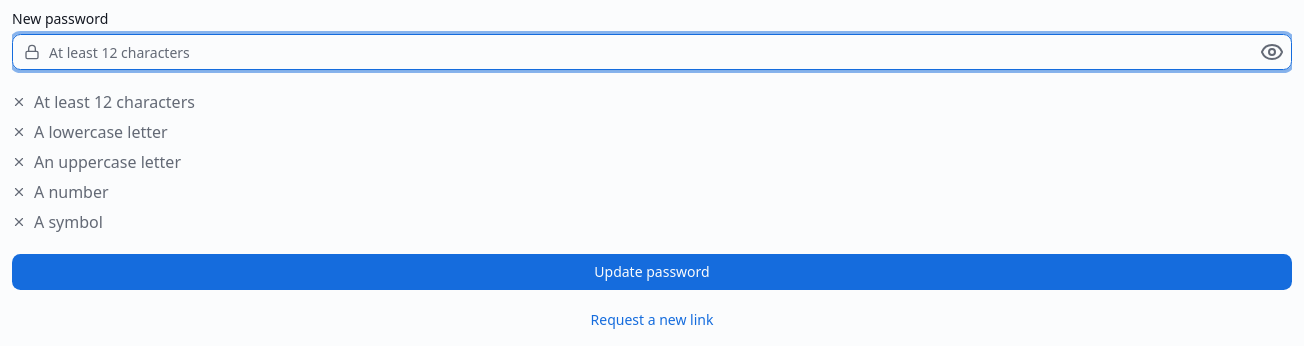
ResetPasswordForm › exchanges a valid token for a new password and points at sign in
This screenshot has width=1304, height=346.
Step 1. Type "DemoPass123!" into the password field labelled "New password" → (652, 52), box [12, 34, 1292, 70]
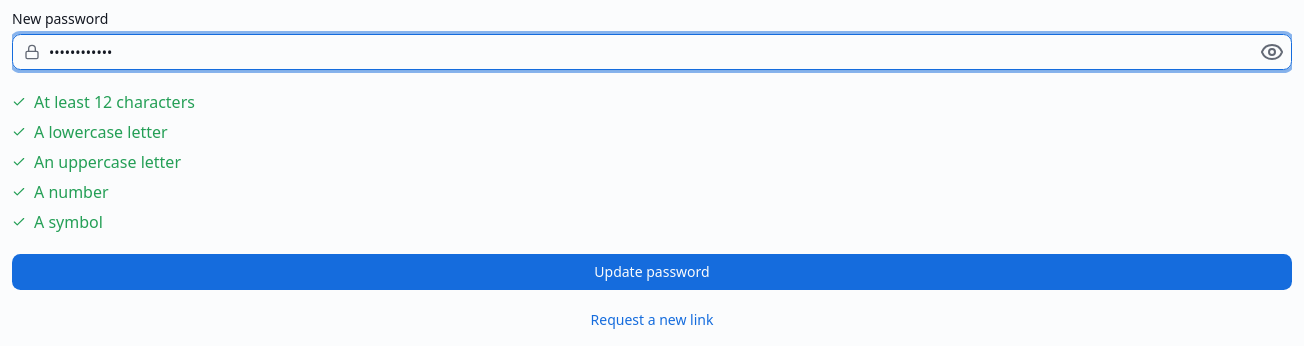
Step 2. Click the button "Update password" → click(652, 272), box [12, 254, 1292, 290]
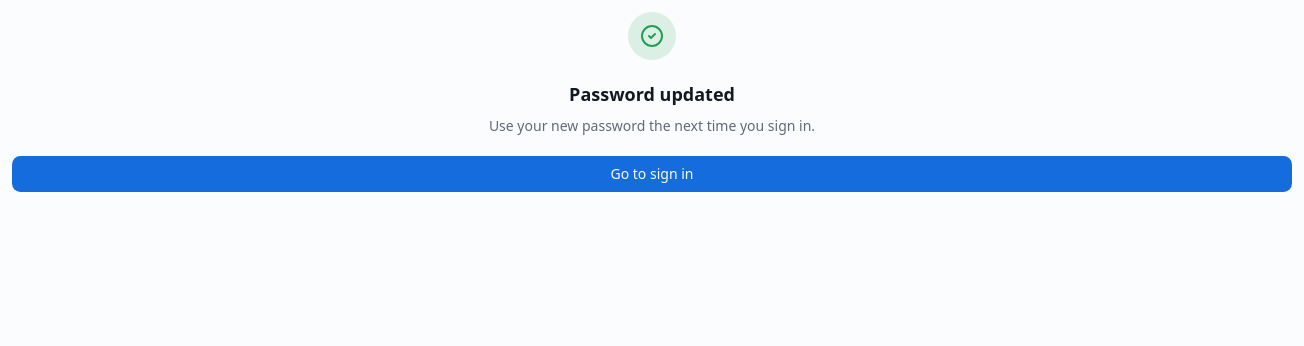
Expected: the heading "Password updated" is shown, [569, 82, 735, 106]
